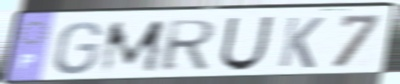7: (330, 12, 383, 70)
G: (51, 20, 105, 77)
K: (275, 15, 327, 70)
M: (97, 17, 168, 76)
R: (158, 18, 220, 74)
U: (217, 15, 276, 73)
